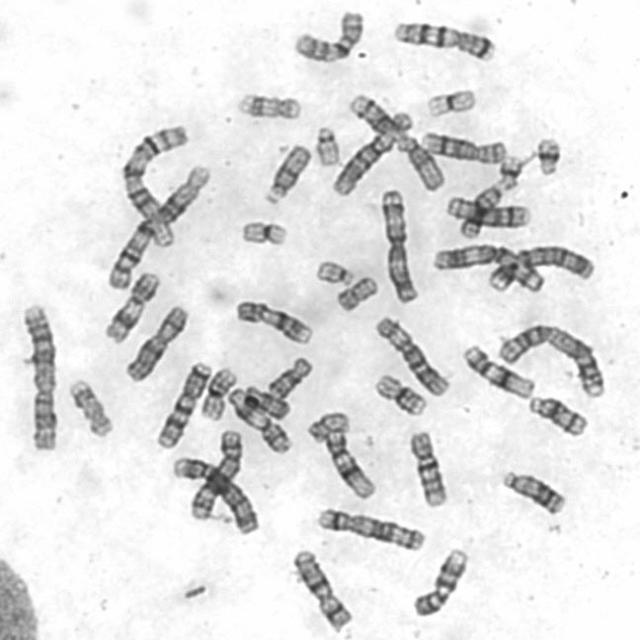A1: (102, 158, 214, 292), (114, 120, 190, 246)
A2: (492, 318, 607, 398), (15, 298, 60, 452)
A3: (429, 238, 546, 294), (374, 184, 421, 304)
B4: (167, 451, 262, 536), (482, 240, 597, 292)
B5: (311, 502, 428, 552), (186, 426, 245, 522)
C10: (288, 4, 367, 64), (403, 425, 449, 509)
C11: (222, 382, 296, 456), (99, 266, 162, 344)
C12: (458, 340, 536, 401), (320, 426, 377, 500)
C6: (327, 106, 414, 197), (371, 311, 452, 397)
C7: (151, 356, 213, 450), (388, 16, 497, 64)
C8: (416, 126, 508, 165), (440, 191, 532, 229)
C9: (407, 543, 470, 619), (230, 294, 314, 346)
D13: (496, 465, 567, 517), (455, 177, 507, 241)
D14: (344, 89, 411, 140), (522, 391, 590, 438)
D15: (258, 139, 313, 206), (392, 130, 447, 192)
E16: (368, 368, 428, 418), (196, 363, 239, 420)
E17: (63, 373, 115, 440), (232, 87, 303, 121)
E18: (262, 352, 314, 401), (240, 385, 293, 422)
F19: (422, 84, 479, 118), (235, 215, 290, 248)
F20: (331, 270, 380, 313), (302, 406, 352, 444)
G21: (531, 132, 564, 177), (493, 150, 524, 192)
G22: (309, 120, 342, 168), (310, 255, 356, 287)
X: (120, 299, 192, 383), (288, 544, 354, 632)
